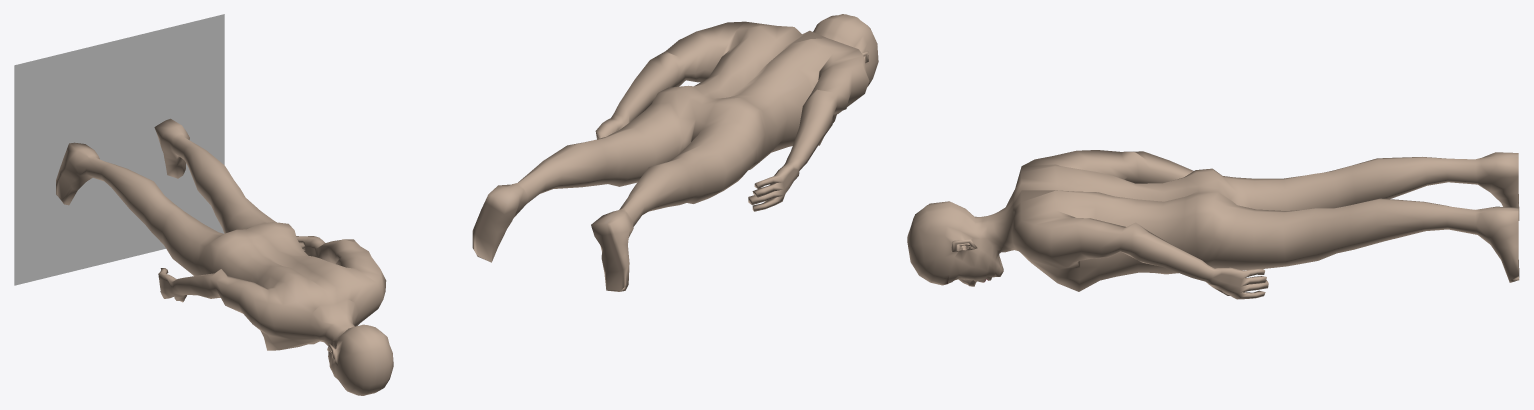
The model's file is man-transformed.glb.
The picture shows the model from 3 angles, left to right: view 1: azimuth 30°, elevation 25°; view 2: azimuth 150°, elevation 25°; view 3: azimuth 270°, elevation 25°; orthographic projection. The views are drawn at different scales.
Visible parts, largest first — view 1: Plane, body; view 2: body; view 3: body.
Part boxes in pixels (box(x1,y1,x2,y2)): Plane: box(14, 14, 224, 285); body: box(56, 118, 393, 395); body: box(472, 14, 878, 291); body: box(907, 150, 1519, 299).
Size of the model in its own units: 2.9 by 2.9 by 6.19.
